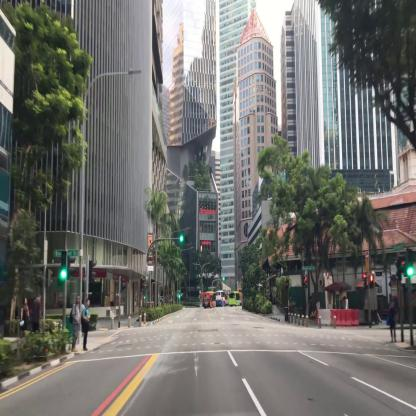green_traffic_light: (61, 251, 66, 279), (180, 235, 188, 241)
